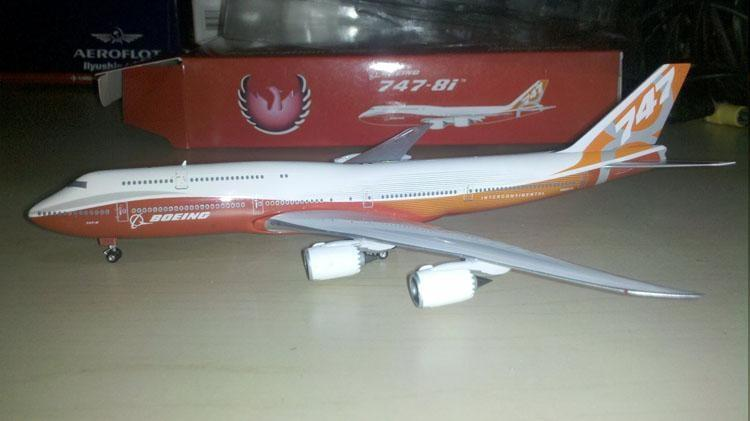airplane: (22, 61, 731, 311)
